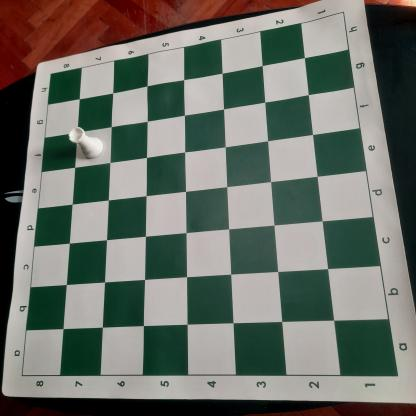white-rook: (66, 124, 110, 160)
